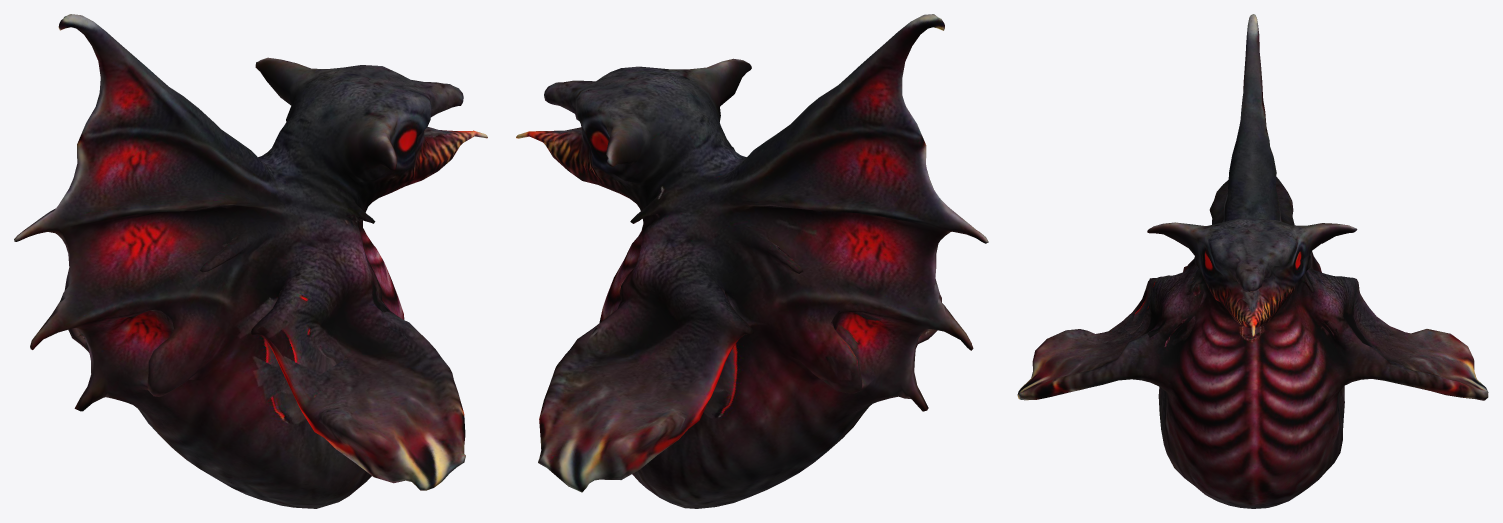
Rendered from 5df403a9eba9_7a9c120c2a60_Terrifying_and_Horr.glb.
3 renders of one model, left to right at view 1: azimuth 30°, elevation 25°; view 2: azimuth 150°, elevation 25°; view 3: azimuth 270°, elevation 25°, orthographic. The views are drawn at different scales.
Parts seen in each view (by area): view 1: mesh; view 2: mesh; view 3: mesh.
Boxes of the visible parts, <box> form: mesh: <box>14,14,487,508</box>; mesh: <box>516,14,988,508</box>; mesh: <box>1017,14,1488,508</box>.
Bounding box in the file's own units: 0.8589 × 0.9364 × 0.986.
1 material, 1 textured.
